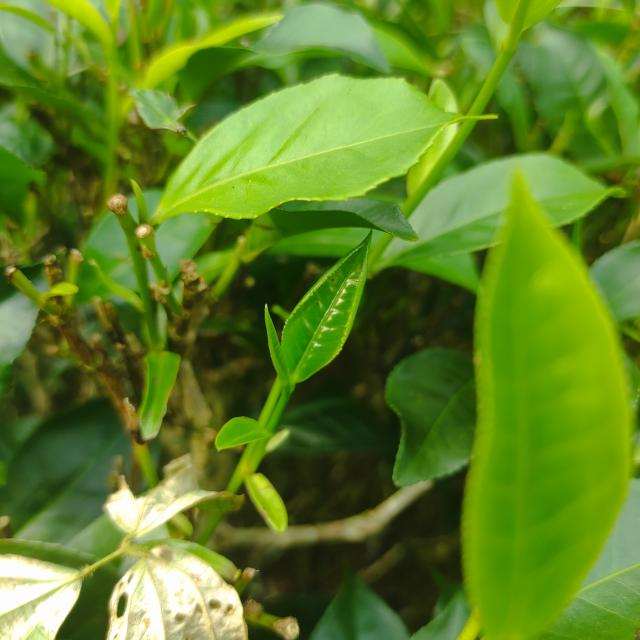unopened_leaf: (255, 291, 298, 390)
